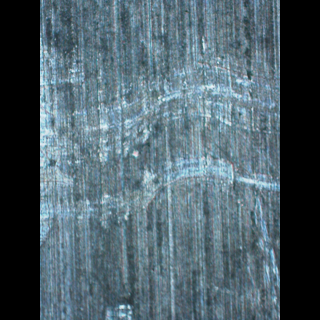d: (40, 37, 280, 242)
